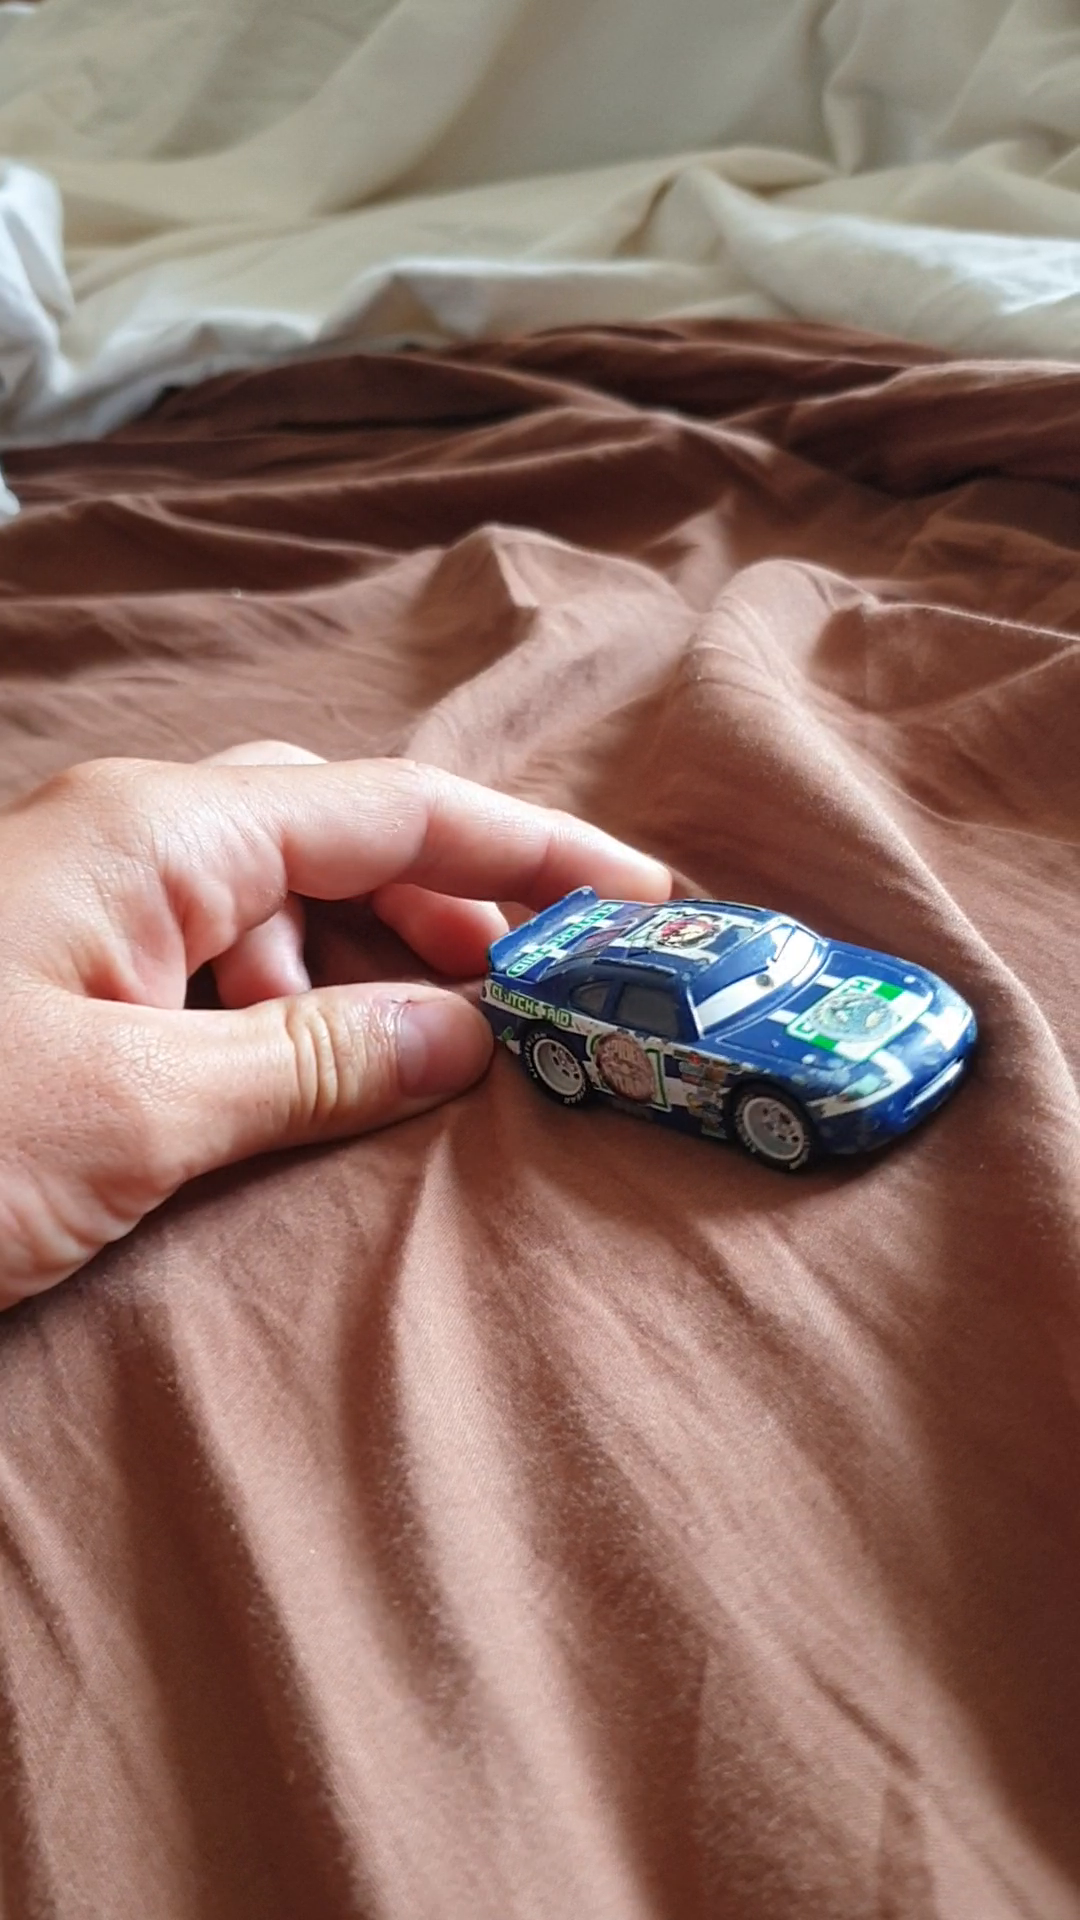cars: (485, 884, 982, 1178)
